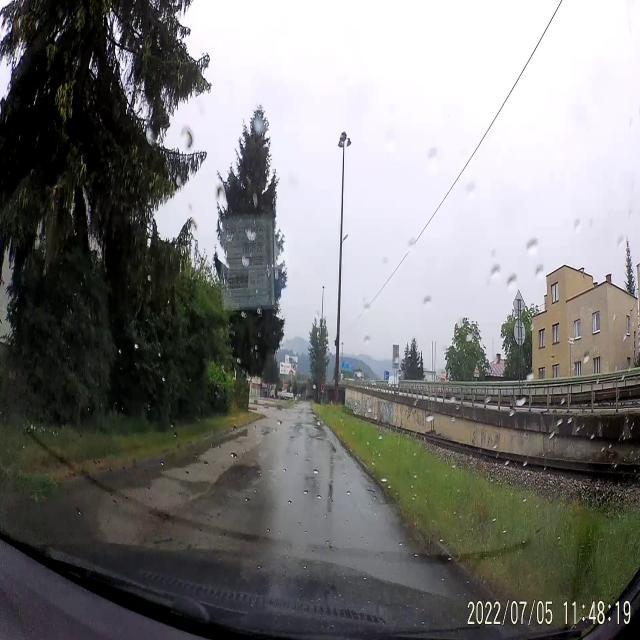Pothole: (362, 478, 378, 502)
